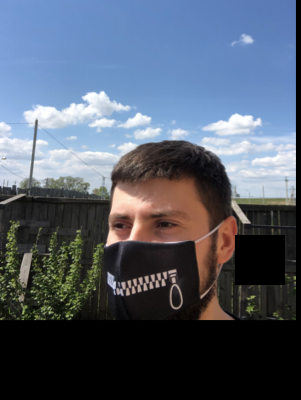with_mask: (101, 197, 210, 320)
